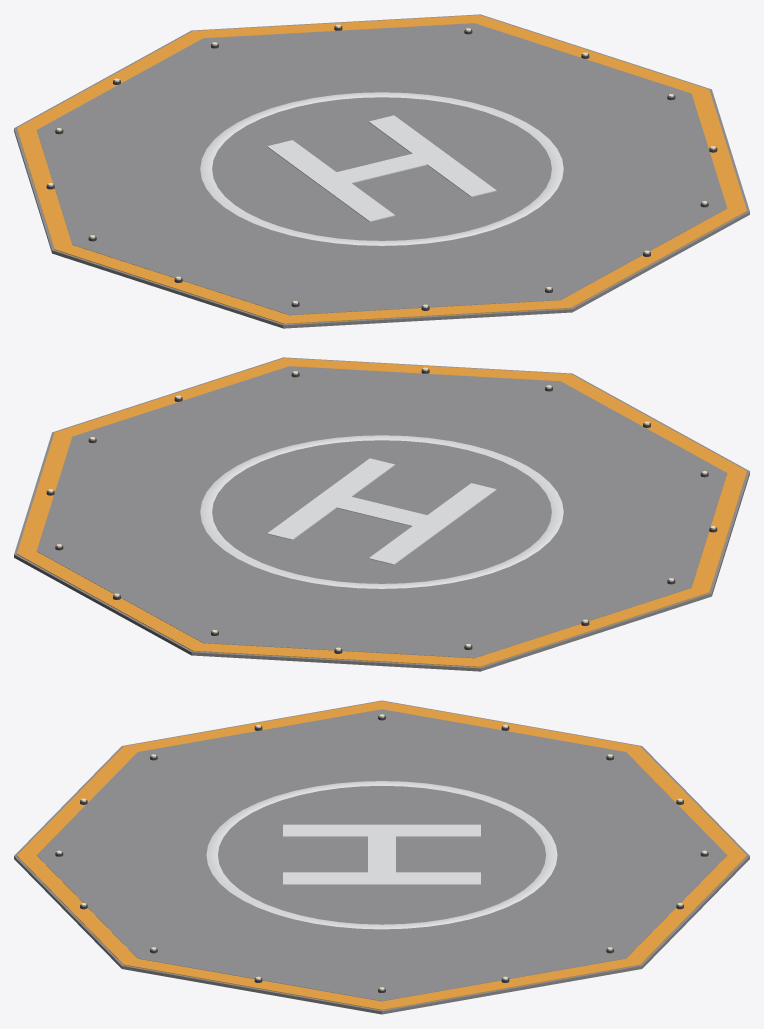
The model's file is LandingPad.fbx.
3 views of the same model, one above another, from view 1: azimuth 30°, elevation 25°; view 2: azimuth 150°, elevation 25°; view 3: azimuth 270°, elevation 25° (orthographic). The views are drawn at different scales.
Parts seen in each view (by area): view 1: LandingPad; view 2: LandingPad; view 3: LandingPad.
Boxes of the visible parts, x1,y1,x2,y2 form: LandingPad: [14, 14, 749, 328]; LandingPad: [14, 357, 749, 671]; LandingPad: [14, 700, 749, 1014].
Bounding box in the file's own units: 26 × 0.28 × 26.
